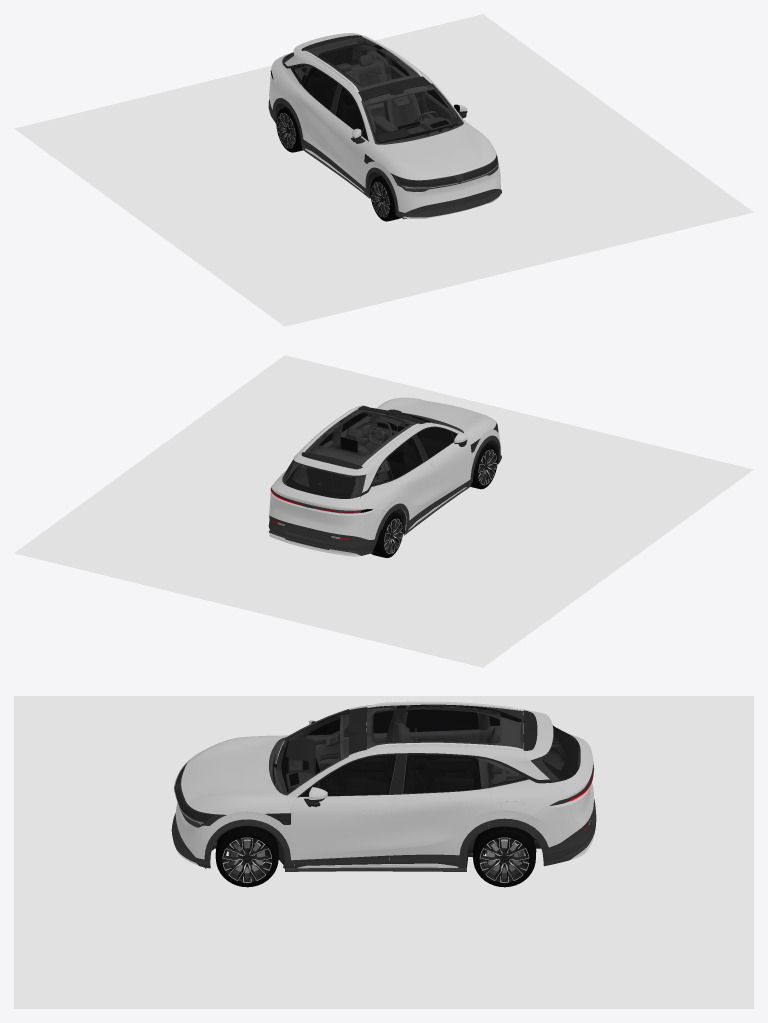
File: car3d.glb
3 renders of one model, top to bottom at view 1: azimuth 30°, elevation 25°; view 2: azimuth 150°, elevation 25°; view 3: azimuth 270°, elevation 25°, orthographic. The views are drawn at different scales.
Visible parts, largest first — view 1: Shadow, body_obj001, body_glass_obj001_transp, interior_01_obj001, door_back_right_obj001, door_front_right_obj001, body_glass_Headlight, trunk_01_obj001, transp_door_back_right_glass_2, transp_door_front_right_glass_2, interior_01_obj001_4, dashboard_obj001; view 2: Shadow, body_obj001, trunk_01_obj001, body_glass_obj001_transp, interior_01_obj001, door_front_right_obj001, door_back_right_obj001, trunk_glass_obj001_transp, transp_door_back_right_glass_2, transp_door_front_right_glass_2; view 3: Shadow, body_obj001, body_glass_obj001_transp, door_front_left_obj001, door_back_left_obj001, interior_01_obj001, trunk_01_obj001, transp_door_back_left_glass_2, transp_door_front_left_glass_3, wheel_back_obj001, wheel_front_left_obj001, Tire_8 (+9 smaller).
Boxes of the visible parts, <box> form: Shadow: <box>14,14,753,326</box>; body_obj001: <box>268,36,501,219</box>; body_glass_obj001_transp: <box>270,36,462,144</box>; interior_01_obj001: <box>293,41,457,140</box>; door_back_right_obj001: <box>291,84,333,166</box>; door_front_right_obj001: <box>328,114,368,192</box>; body_glass_Headlight: <box>390,154,498,191</box>; trunk_01_obj001: <box>271,33,365,72</box>; transp_door_back_right_glass_2: <box>303,67,337,110</box>; transp_door_front_right_glass_2: <box>336,87,367,140</box>; interior_01_obj001_4: <box>360,73,425,136</box>; dashboard_obj001: <box>376,117,459,144</box>; Shadow: <box>14,355,753,667</box>; body_obj001: <box>268,397,501,556</box>; trunk_01_obj001: <box>270,452,366,535</box>; body_glass_obj001_transp: <box>304,408,435,512</box>; interior_01_obj001: <box>292,409,417,493</box>; door_front_right_obj001: <box>427,431,471,510</box>; door_back_right_obj001: <box>391,460,435,532</box>; trunk_glass_obj001_transp: <box>282,462,358,498</box>; transp_door_back_right_glass_2: <box>387,437,422,479</box>; transp_door_front_right_glass_2: <box>416,427,456,458</box>; Shadow: <box>14,696,753,1008</box>; body_obj001: <box>171,701,596,871</box>; body_glass_obj001_transp: <box>272,704,526,795</box>; door_front_left_obj001: <box>291,781,394,868</box>; door_back_left_obj001: <box>389,787,491,867</box>; interior_01_obj001: <box>276,707,565,792</box>; trunk_01_obj001: <box>523,709,594,826</box>; transp_door_back_left_glass_2: <box>403,754,481,793</box>; transp_door_front_left_glass_3: <box>300,755,396,796</box>; wheel_back_obj001: <box>479,837,529,882</box>; wheel_front_left_obj001: <box>222,837,272,882</box>; Tire_8: <box>215,826,278,887</box>.
Size of what is drawn, in the model's own units: 8.4 by 1.63 by 8.4.
Materials: 16 (15 with a texture image).
